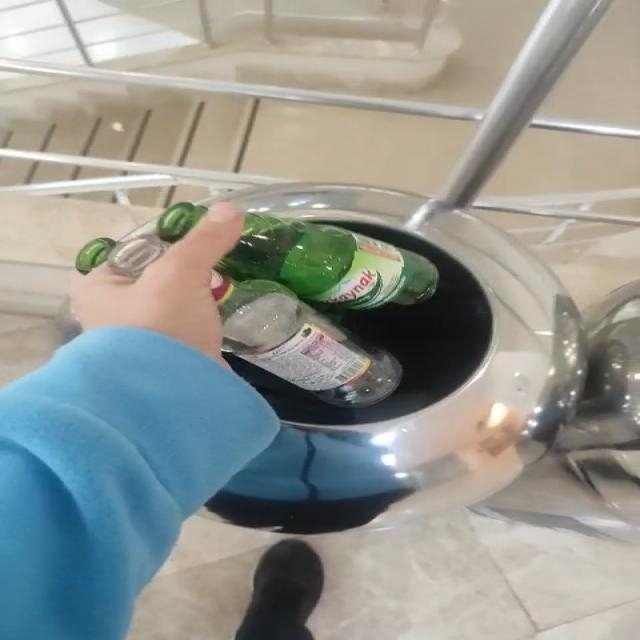Glass: (212, 212, 439, 407), (76, 203, 207, 276)
